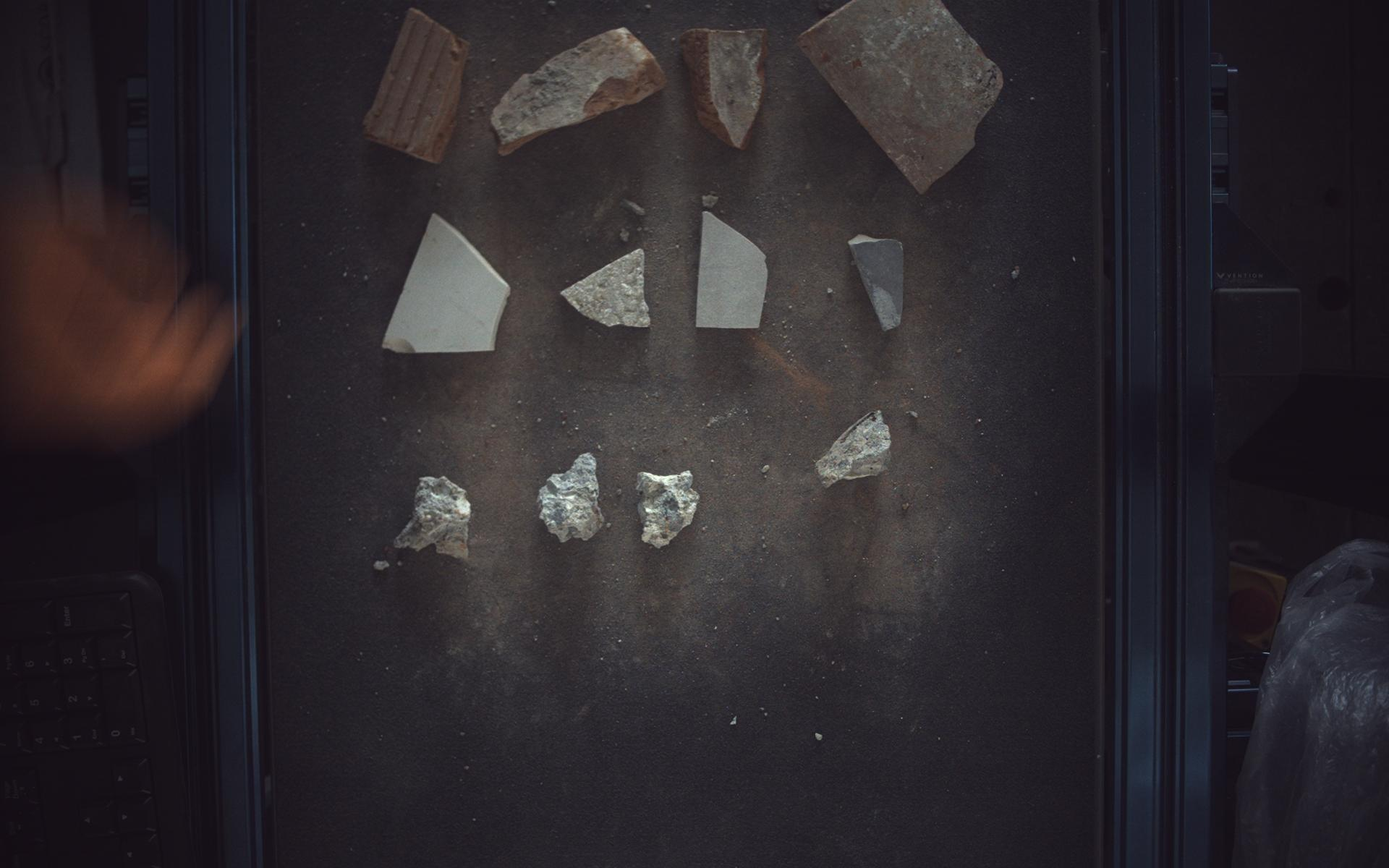brick: (799, 1, 1004, 192), (491, 26, 667, 154), (363, 7, 469, 163), (681, 27, 769, 148)
concrete: (394, 477, 471, 561), (540, 453, 605, 542), (817, 412, 893, 488), (638, 472, 700, 549)
tile: (382, 213, 511, 353), (697, 210, 769, 328), (562, 248, 650, 327), (850, 234, 904, 331)
